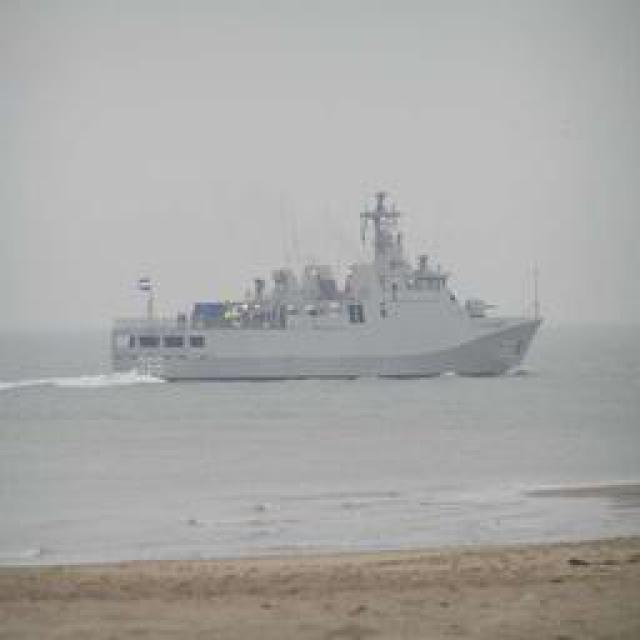Ship: (121, 232, 541, 382)
